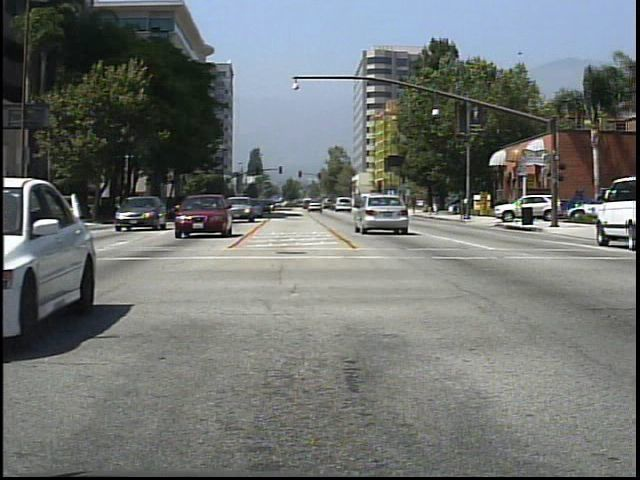person: (457, 189, 473, 221), (430, 190, 444, 217)
